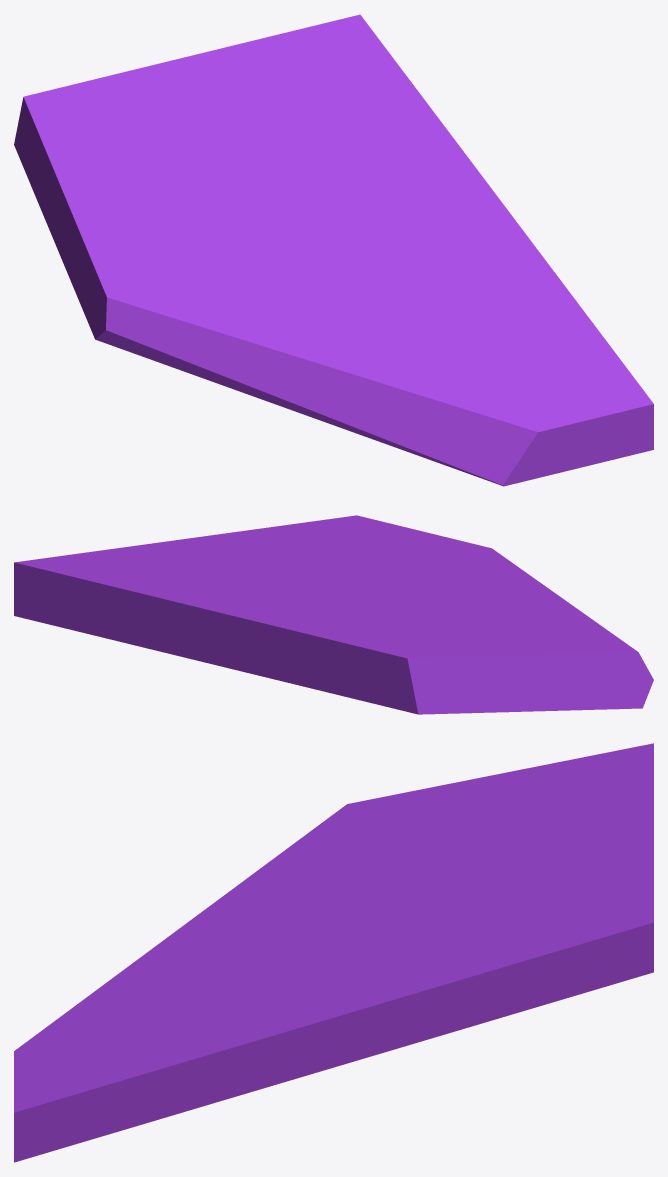
Rendered from Window_164_2_chunks.fbx.
3 renders of one model, top to bottom at view 1: azimuth 30°, elevation 25°; view 2: azimuth 150°, elevation 25°; view 3: azimuth 270°, elevation 25°, orthographic. The views are drawn at different scales.
Parts seen in each view (by area): view 1: Window_164_2_15, Window_164_2_10, Window_164_2_8, Window_164_2_0, Window_164_2_11, Window_164_2_2, Window_164_2_3, Window_164_2_9, Window_164_2_1, Window_164_2_18, Window_164_2_6, Window_164_2_24 (+9 smaller); view 2: Window_164_2_15, Window_164_2_13, Window_164_2_3, Window_164_2_1, Window_164_2_2, Window_164_2_0, Window_164_2_11, Window_164_2_8, Window_164_2_10, Window_164_2_18, Window_164_2_24, Window_164_2_12 (+9 smaller); view 3: Window_164_2_15, Window_164_2_11, Window_164_2_18, Window_164_2_0, Window_164_2_26, Window_164_2_3, Window_164_2_9, Window_164_2_27, Window_164_2_2, Window_164_2_8, Window_164_2_10, Window_164_2_24 (+10 smaller).
Part boxes in pixels (<box>): Window_164_2_15: <box>89,30,316,154</box>; Window_164_2_10: <box>398,358,587,486</box>; Window_164_2_8: <box>284,267,434,452</box>; Window_164_2_0: <box>199,160,343,308</box>; Window_164_2_11: <box>340,264,615,370</box>; Window_164_2_2: <box>41,140,208,261</box>; Window_164_2_3: <box>297,14,380,208</box>; Window_164_2_9: <box>516,353,653,483</box>; Window_164_2_1: <box>38,199,213,322</box>; Window_164_2_18: <box>412,217,586,314</box>; Window_164_2_6: <box>201,324,351,431</box>; Window_164_2_24: <box>375,76,460,213</box>; Window_164_2_15: <box>88,580,374,681</box>; Window_164_2_13: <box>283,632,488,714</box>; Window_164_2_3: <box>14,559,323,642</box>; Window_164_2_1: <box>485,624,649,712</box>; Window_164_2_2: <box>423,618,594,701</box>; Window_164_2_0: <box>262,584,568,624</box>; Window_164_2_11: <box>279,521,464,587</box>; Window_164_2_8: <box>407,570,577,609</box>; Window_164_2_10: <box>415,534,538,581</box>; Window_164_2_18: <box>241,526,338,566</box>; Window_164_2_24: <box>91,548,267,572</box>; Window_164_2_12: <box>353,612,452,651</box>; Window_164_2_15: <box>512,778,653,906</box>; Window_164_2_11: <box>97,930,312,1105</box>; Window_164_2_18: <box>126,968,350,1128</box>; Window_164_2_0: <box>282,852,463,931</box>; Window_164_2_26: <box>231,971,403,1079</box>; Window_164_2_3: <box>394,889,653,961</box>; Window_164_2_9: <box>14,1037,139,1162</box>; Window_164_2_27: <box>394,935,609,1045</box>; Window_164_2_2: <box>366,756,586,853</box>; Window_164_2_8: <box>122,903,310,988</box>; Window_164_2_10: <box>14,971,151,1077</box>; Window_164_2_24: <box>356,937,560,989</box>.
Bounding box in the file's own units: 920 × 482 × 1165.
